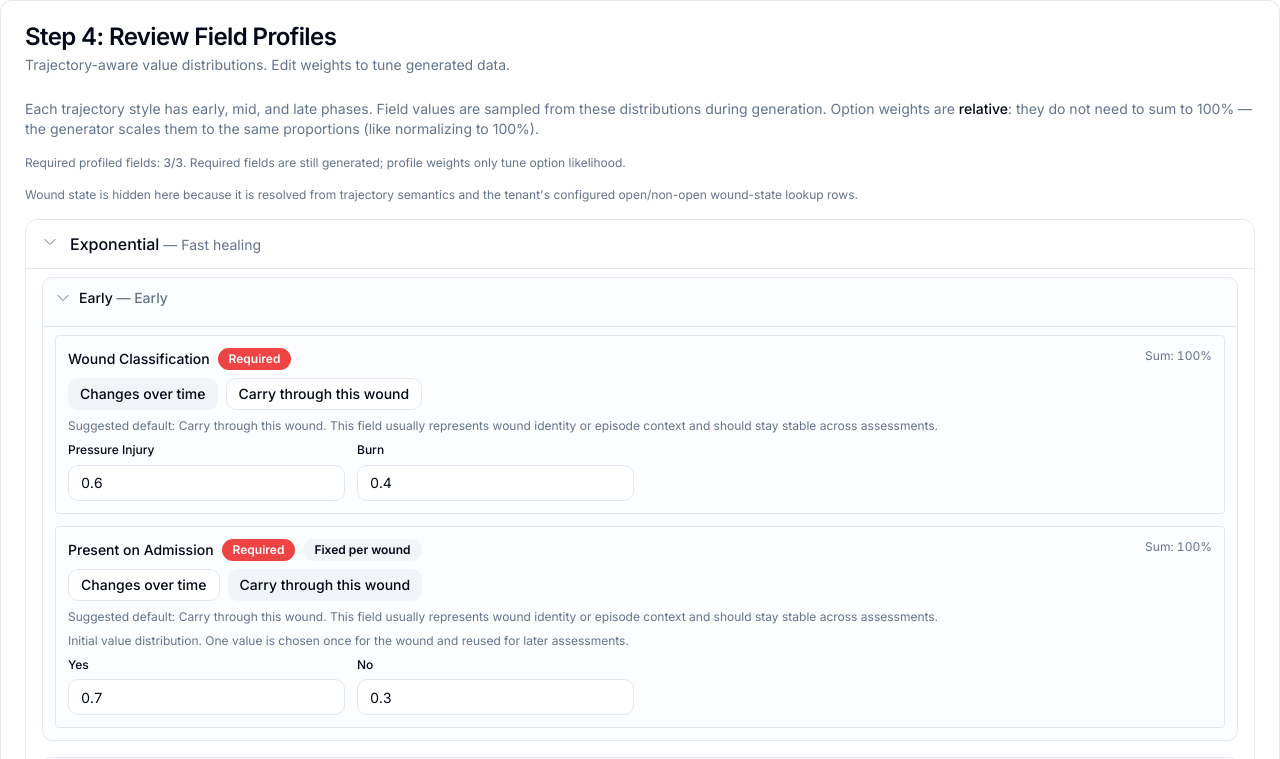
FieldProfilesReviewStep › collapses per-wound fields to a single initial distribution and preserves normalized output
Later steps or results of the test are not shown.
What coordinates should you click on to do the following:
click the 1st button "Carry through this wound"
I would click on:
 (324, 394)
Its box is 226,378 -> 422,410.
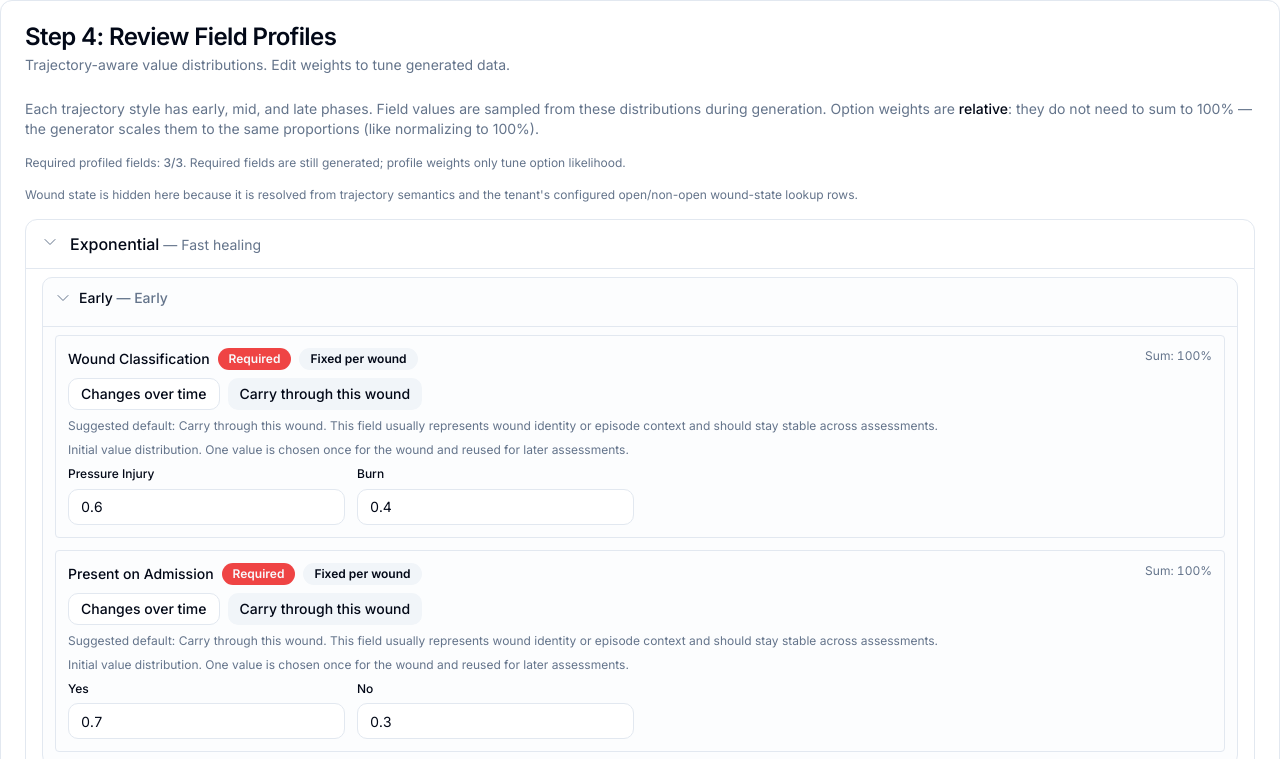
Check: the 1st text "Initial value distribution" is shown, box 68,442 -> 629,457
